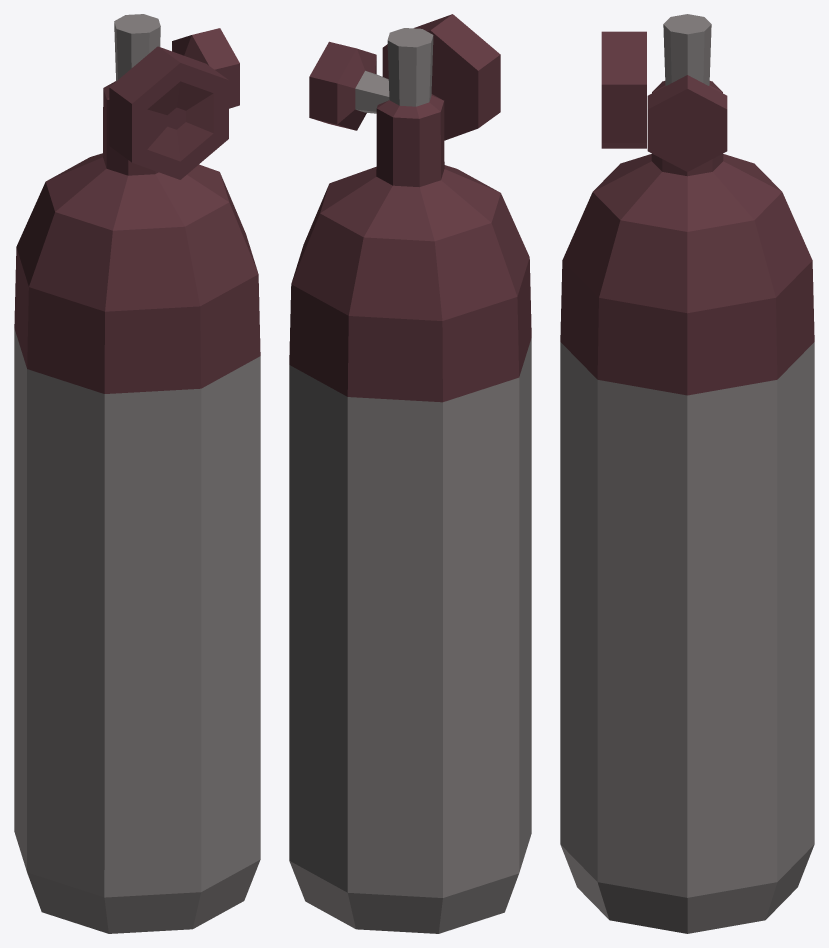
The model's file is oxygen-cylinder.fbx.
The picture shows the model from 3 angles, left to right: view 1: azimuth 30°, elevation 25°; view 2: azimuth 150°, elevation 25°; view 3: azimuth 270°, elevation 25°; orthographic projection.
Visible parts, largest first — view 1: oxygen-cylinder; view 2: oxygen-cylinder; view 3: oxygen-cylinder.
Boxes of the visible parts, box(x1,y1,x2,y2) form: oxygen-cylinder: box(14, 14, 260, 933); oxygen-cylinder: box(289, 14, 531, 933); oxygen-cylinder: box(560, 14, 814, 933).
Bounding box in the file's own units: 0.2521 × 0.9436 × 0.2521.
